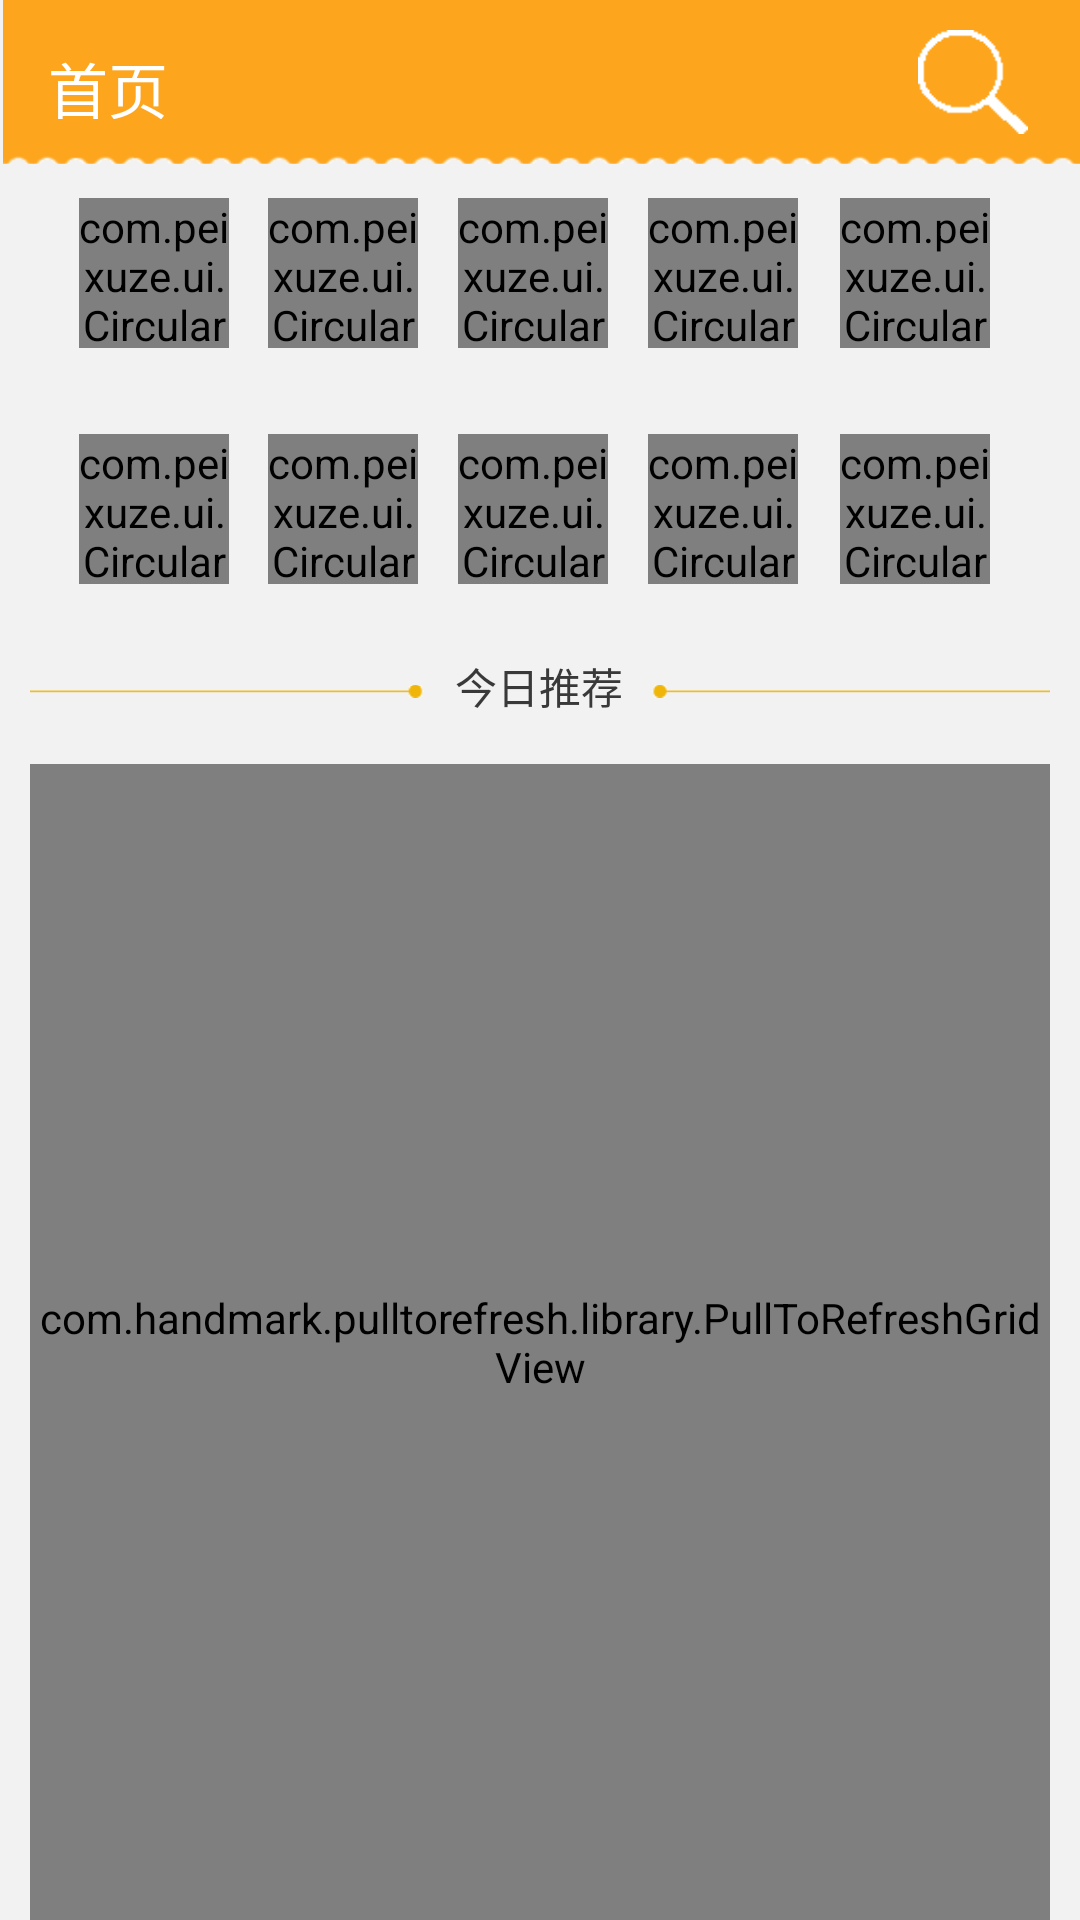

Icon click points for this 1080 x 1920 phone screenshot, format [x,y]:
search: [973,82]
